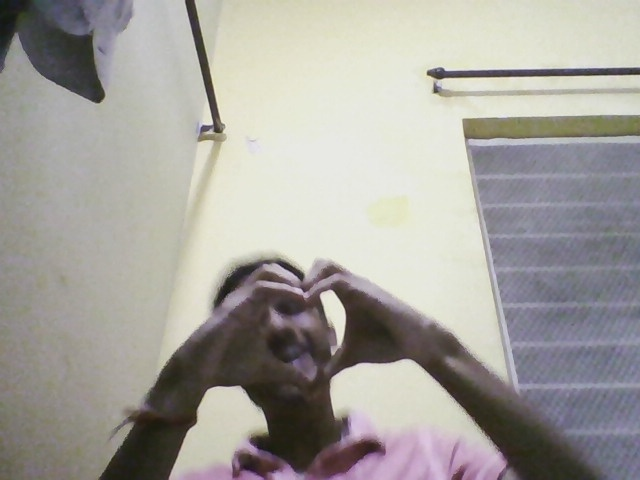iloveyou: (174, 252, 439, 391)
